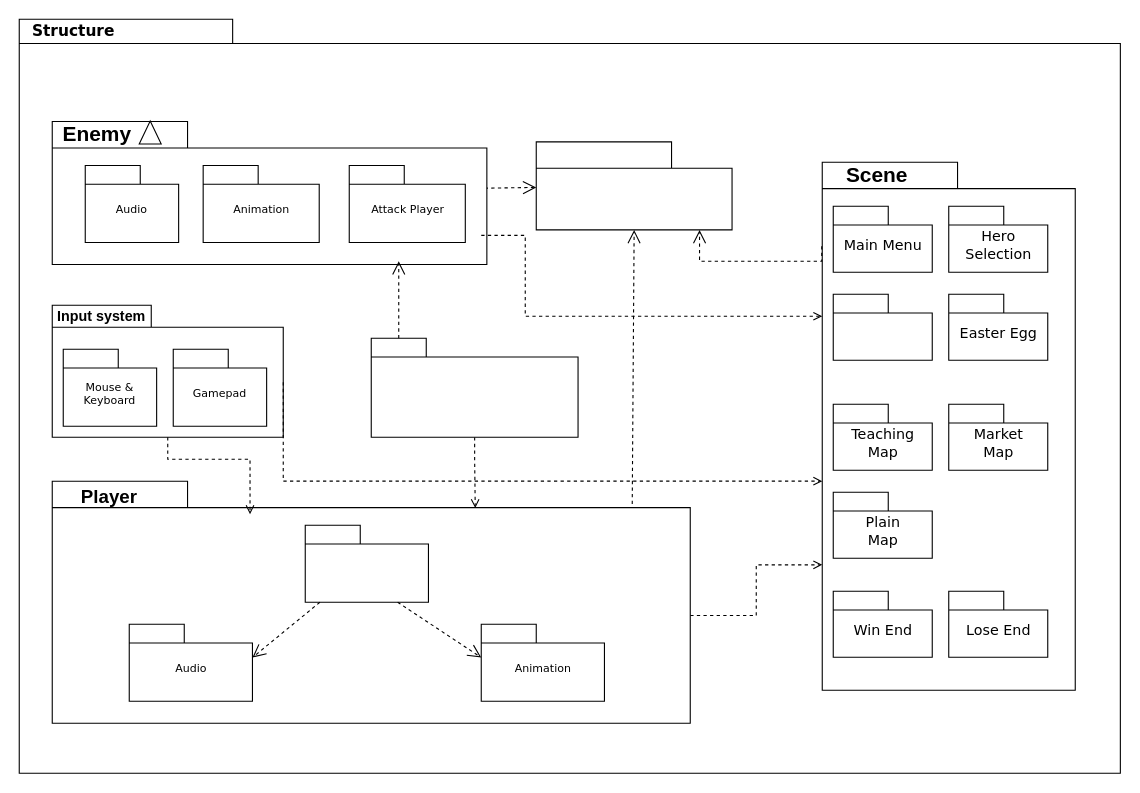
Image size: 1140x793. Some labels were removed from this diagram. Here are the shapes that lost their labels. From the top down, the centre of each, then its label:
point (633, 185): Story
point (882, 326): Difficult Selecttion
point (474, 387): HP & Weapon System
point (366, 563): Skill
